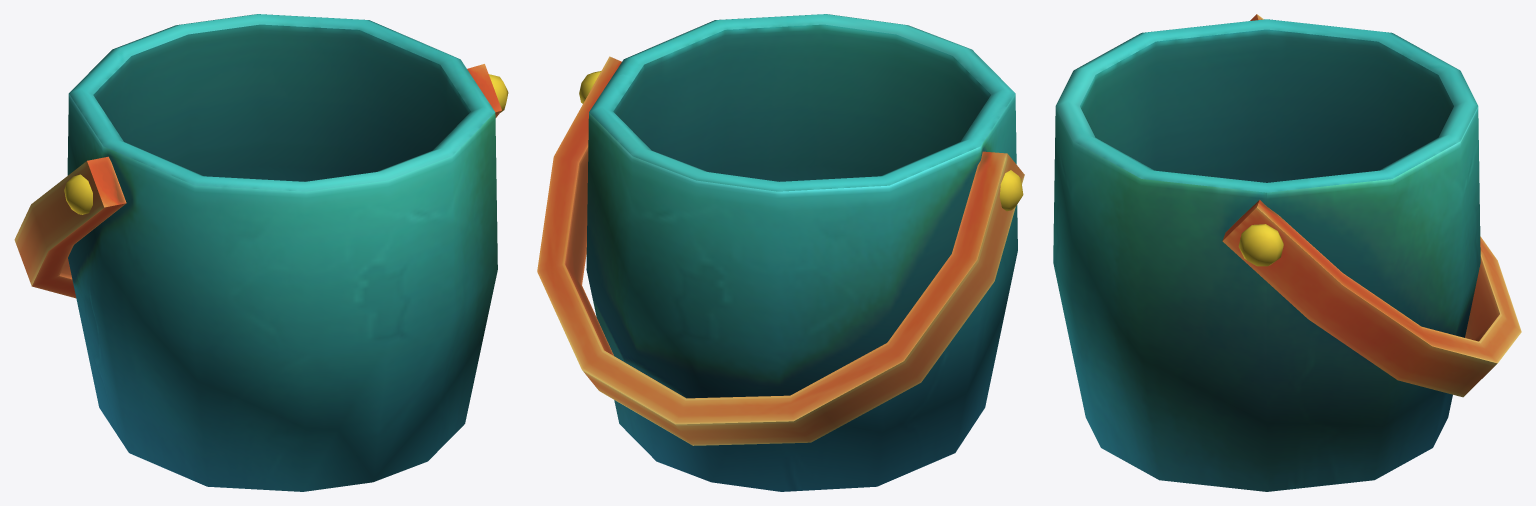
File: SE_Vessel_01.fbx
3 renders of one model, left to right at view 1: azimuth 30°, elevation 25°; view 2: azimuth 150°, elevation 25°; view 3: azimuth 270°, elevation 25°, orthographic.
Visible parts, largest first — view 1: SE_Vessel_01a; view 2: SE_Vessel_01a; view 3: SE_Vessel_01a.
Boxes of the visible parts, x1,y1,x2,y2 form: SE_Vessel_01a: (14,14,508,491); SE_Vessel_01a: (537,14,1024,491); SE_Vessel_01a: (1053,14,1521,491).
Bounding box in the file's own units: 2.07 × 1.42 × 1.91.
